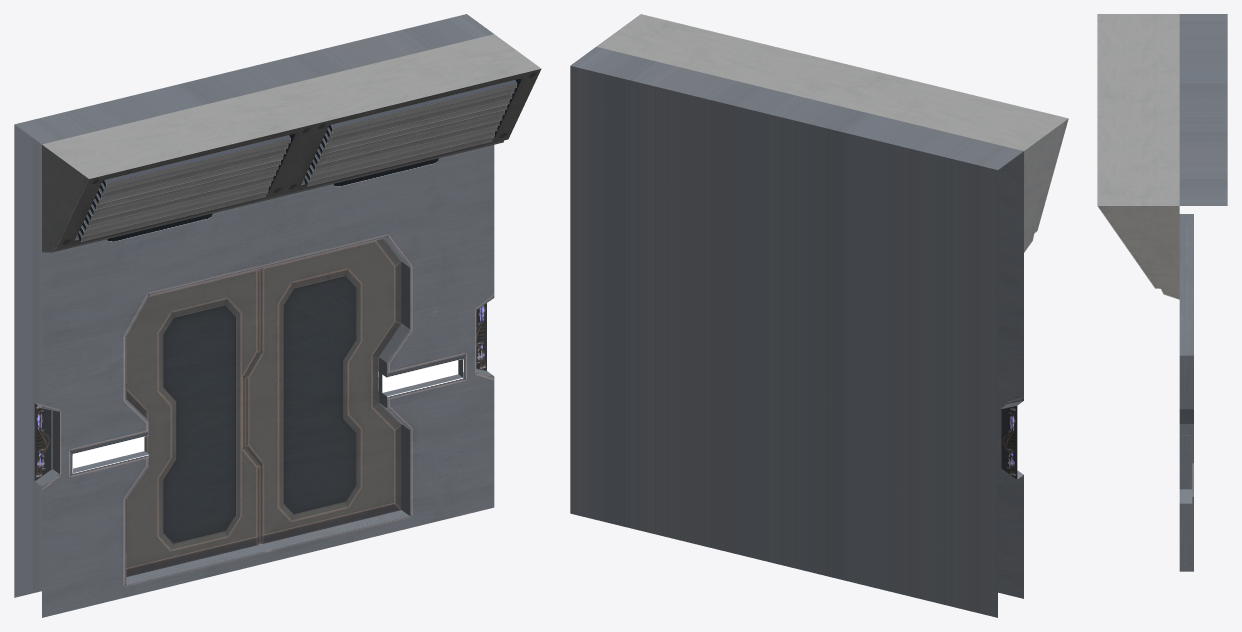
Rendered from DS_SM018_Scifi_Room_Wall4M_02.fbx.
3 renders of one model, left to right at view 1: azimuth 30°, elevation 25°; view 2: azimuth 150°, elevation 25°; view 3: azimuth 270°, elevation 25°, orthographic. The views are drawn at different scales.
Visible parts, largest first — view 1: DS_SM018_Scifi_Room_Wall4M_02; view 2: DS_SM018_Scifi_Room_Wall4M_02; view 3: DS_SM018_Scifi_Room_Wall4M_02.
Part boxes in pixels (x1,y1,x2,y2): DS_SM018_Scifi_Room_Wall4M_02: (14,14,541,617); DS_SM018_Scifi_Room_Wall4M_02: (570,14,1068,617); DS_SM018_Scifi_Room_Wall4M_02: (1097,14,1227,571).
Size of the model in its own units: 800 by 800 by 229.
